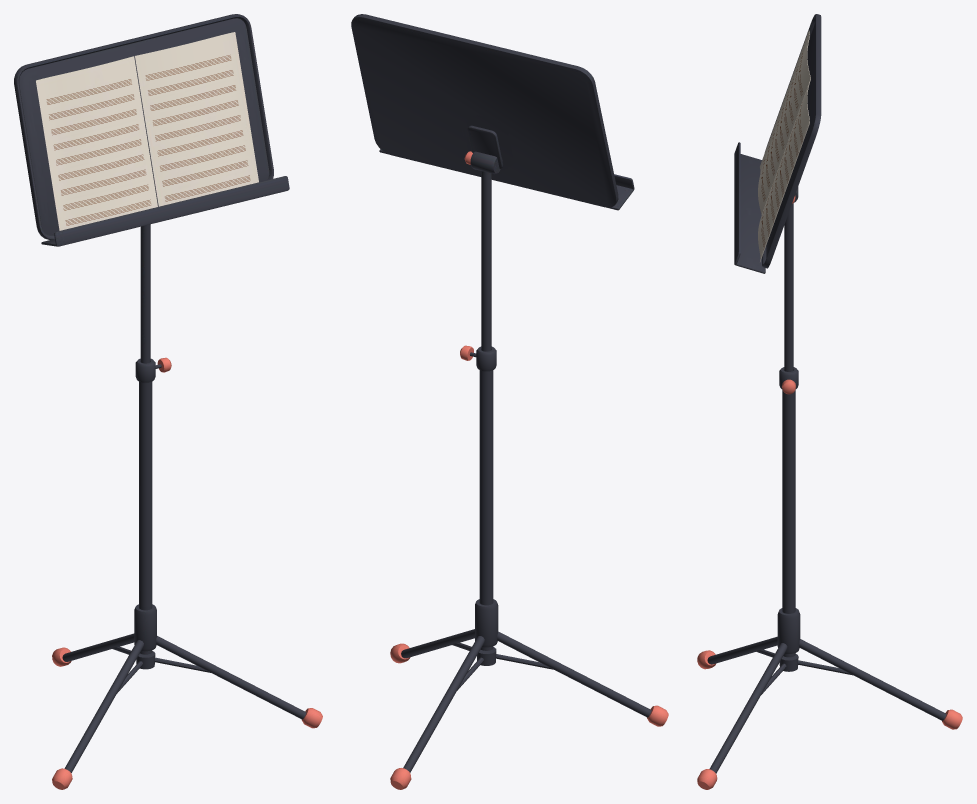
The picture shows the model from 3 angles, left to right: view 1: azimuth 30°, elevation 25°; view 2: azimuth 150°, elevation 25°; view 3: azimuth 270°, elevation 25°; orthographic projection. The views are drawn at different scales.
Visible parts, largest first — view 1: singing-score-pages, singing-score-panel-and-slider, singing-tripod; view 2: singing-score-panel-and-slider, singing-tripod; view 3: singing-tripod, singing-score-panel-and-slider, singing-score-pages.
Boxes of the visible parts, box(x1,y1,x2,y2) form: singing-score-pages: box(35, 32, 258, 230); singing-score-panel-and-slider: box(14, 14, 289, 363); singing-tripod: box(52, 357, 322, 789); singing-score-panel-and-slider: box(351, 14, 634, 351); singing-tripod: box(390, 345, 668, 789); singing-tripod: box(697, 367, 962, 789); singing-score-panel-and-slider: box(734, 14, 821, 371); singing-score-pages: box(758, 30, 810, 261).
Size of the model in its own units: 0.5712 by 1.37 by 0.4985.
Materials: 2 (2 with a texture image).
